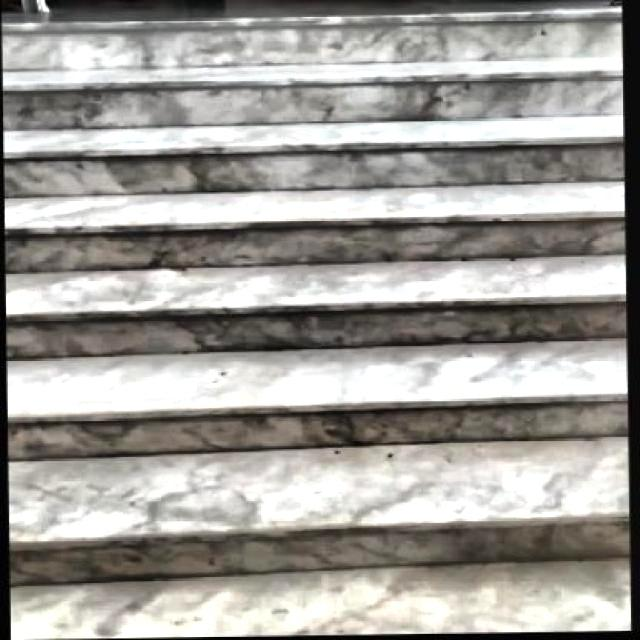stair: (1, 6, 638, 639)
